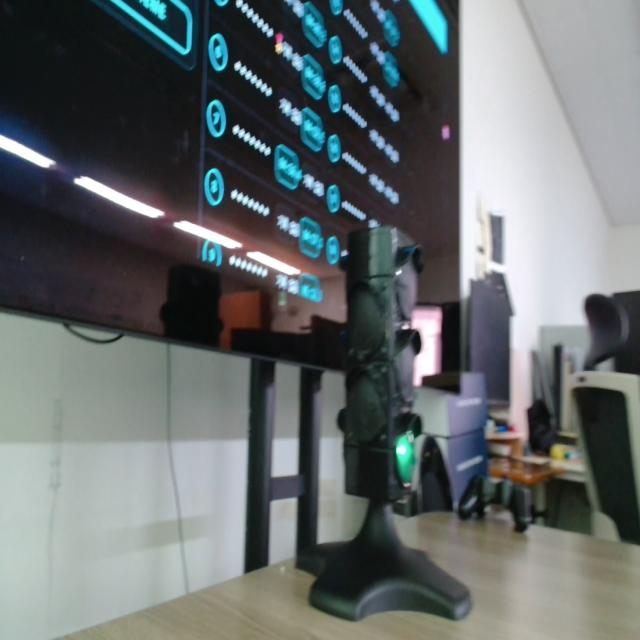green_light: (396, 434, 415, 486)
